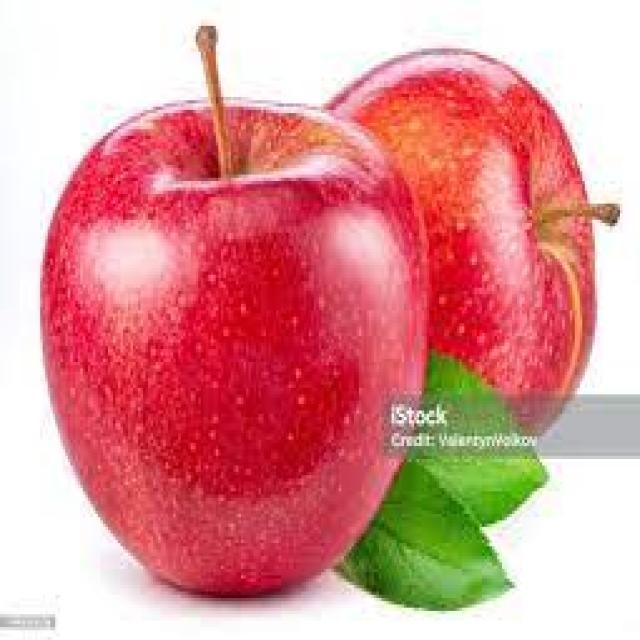agrume: (28, 64, 439, 615), (306, 10, 640, 517)
